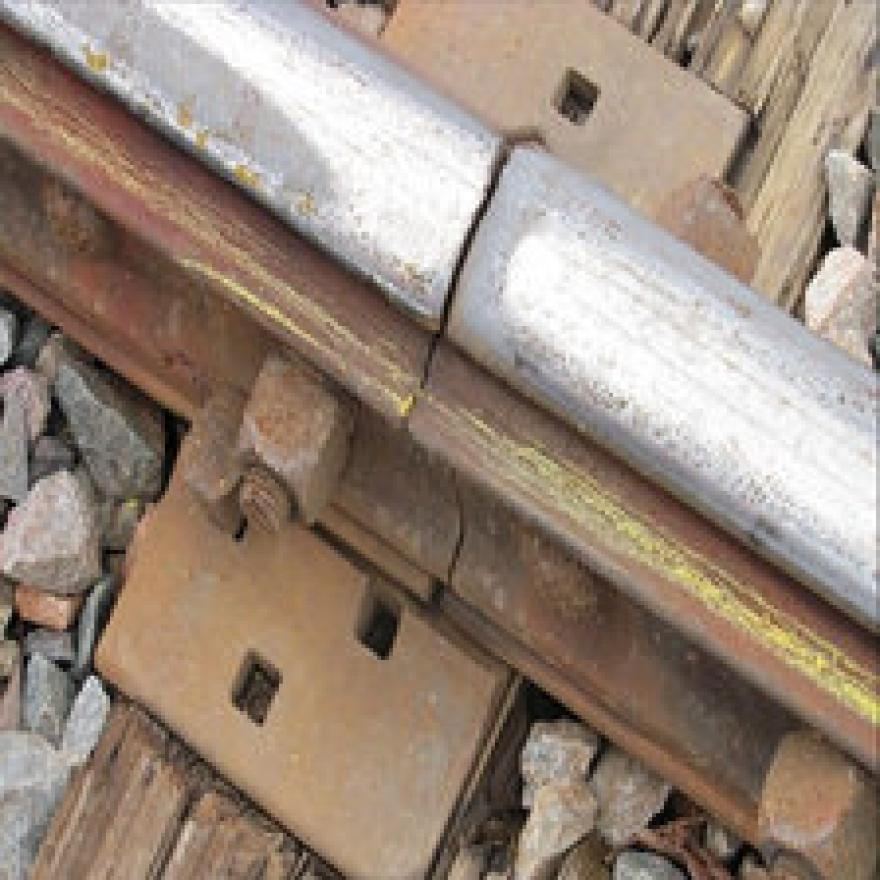railway-gap: (332, 109, 618, 363), (345, 385, 574, 657)
